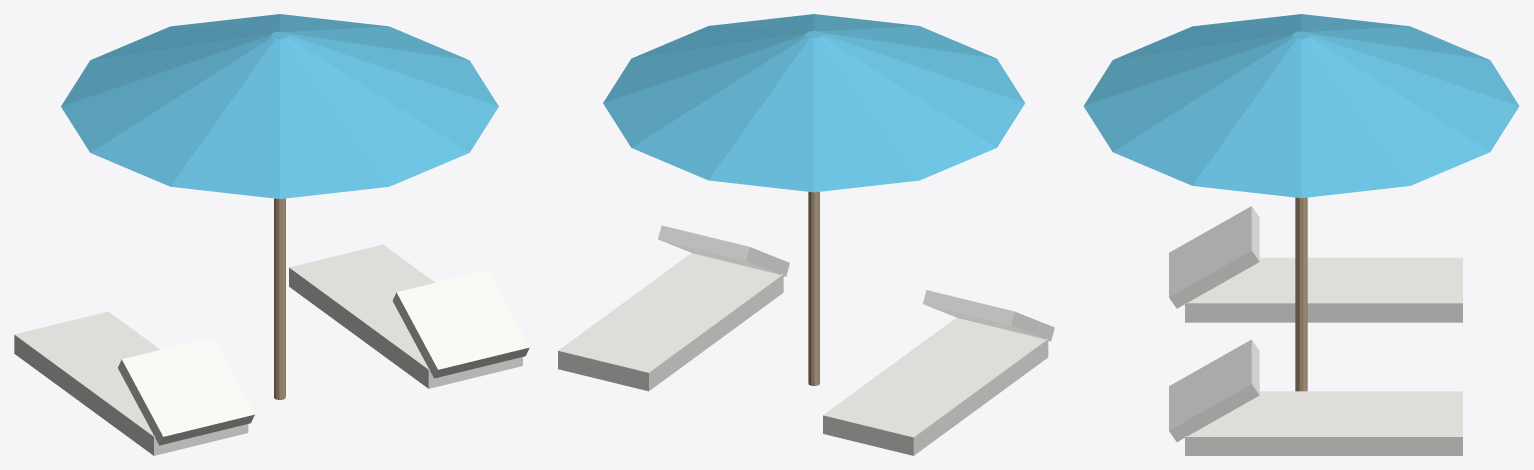
The model's file is Beach_UmbrellaSet.fbx.
3 views of the same model, side by side, from view 1: azimuth 30°, elevation 25°; view 2: azimuth 150°, elevation 25°; view 3: azimuth 270°, elevation 25° (orthographic). The views are drawn at different scales.
Visible parts, largest first — view 1: Cone, Cube, Cube.002, Cube.001, Cube.003, Cylinder; view 2: Cone, Cube.002, Cube, Cube.001, Cube.003, Cylinder; view 3: Cone, Cube.002, Cube, Cube.003, Cube.001, Cylinder.
Boxes of the visible parts, x1,y1,x2,y2 form: Cone: [61, 14, 498, 198]; Cube: [14, 311, 248, 455]; Cube.002: [289, 244, 522, 388]; Cube.001: [118, 337, 254, 445]; Cube.003: [392, 270, 529, 378]; Cylinder: [274, 198, 285, 399]; Cone: [603, 14, 1024, 192]; Cube.002: [558, 253, 783, 391]; Cube: [823, 317, 1048, 455]; Cube.001: [922, 290, 1054, 341]; Cube.003: [658, 225, 789, 276]; Cylinder: [808, 192, 819, 385]; Cone: [1083, 14, 1519, 198]; Cube.002: [1185, 391, 1462, 455]; Cube: [1185, 257, 1462, 322]; Cube.003: [1169, 339, 1259, 441]; Cube.001: [1169, 206, 1259, 308]; Cylinder: [1295, 197, 1307, 391].
Size of the model in its own units: 2.9 by 2.65 by 2.9.
